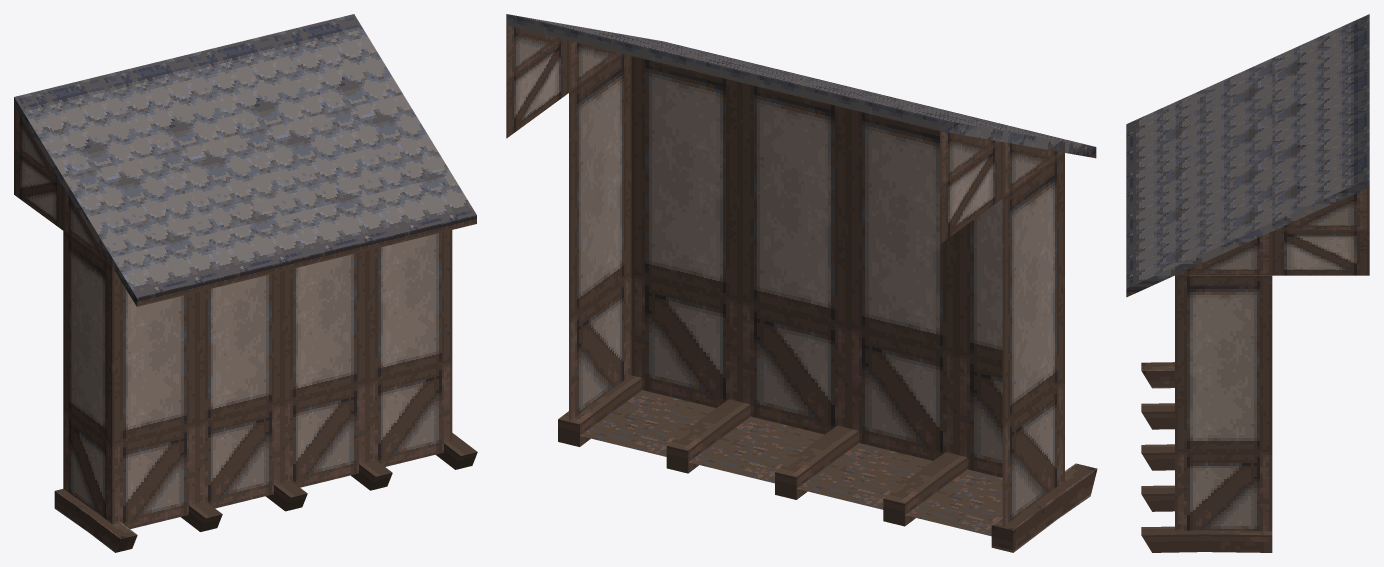
File: roof_blue_stickout_large.glb
The picture shows the model from 3 angles, left to right: view 1: azimuth 30°, elevation 25°; view 2: azimuth 150°, elevation 25°; view 3: azimuth 270°, elevation 25°; orthographic projection. The views are drawn at different scales.
Visible parts, largest first — view 1: roof_blue_stickout_large; view 2: roof_blue_stickout_large; view 3: roof_blue_stickout_large.
Part boxes in pixels (x1,y1,x2,y2): roof_blue_stickout_large: [14, 14, 477, 552]; roof_blue_stickout_large: [506, 14, 1097, 552]; roof_blue_stickout_large: [1126, 14, 1369, 552].
Bounding box in the file's own units: 5.25 × 5.25 × 3.13.
Materials: 1 (1 with a texture image).
